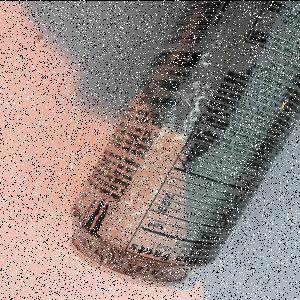Can: (69, 2, 300, 288)
